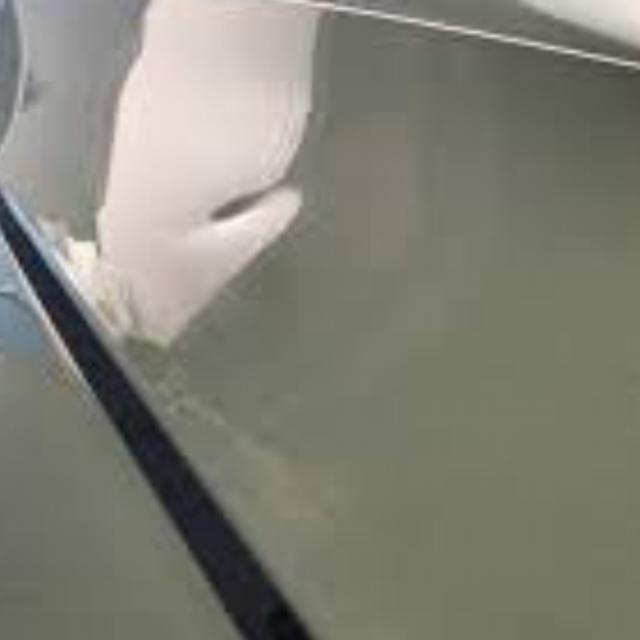dents: (187, 156, 341, 260)
